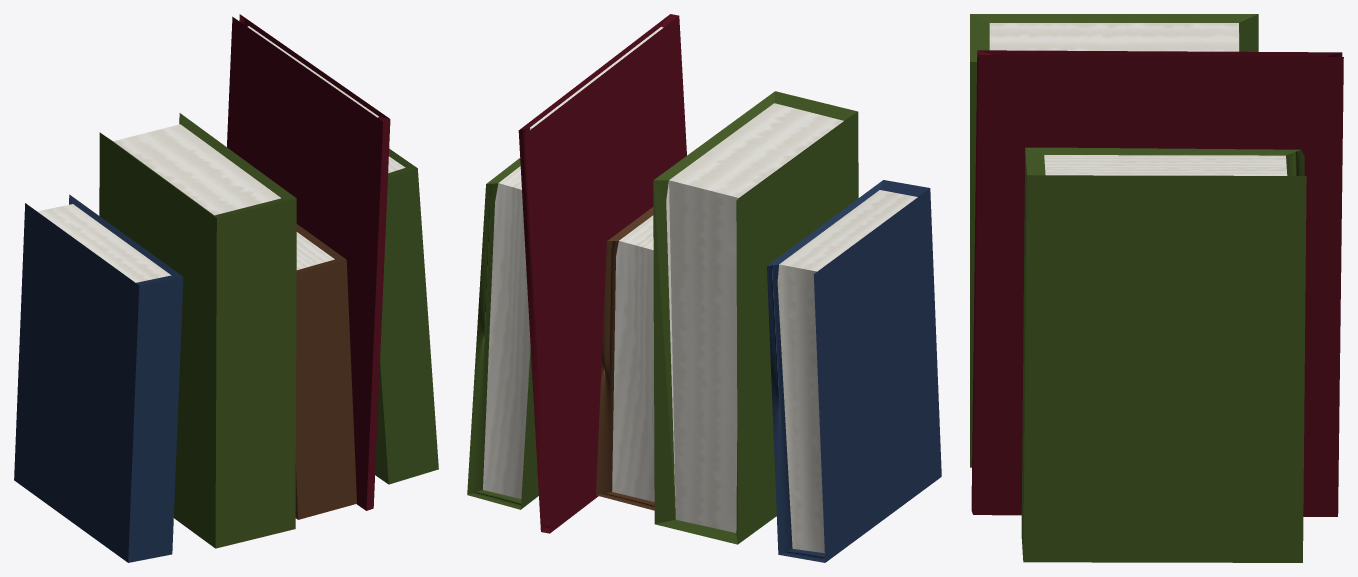
The model's file is books1.fbx.
The picture shows the model from 3 angles, left to right: view 1: azimuth 30°, elevation 25°; view 2: azimuth 150°, elevation 25°; view 3: azimuth 270°, elevation 25°; orthographic projection. The views are drawn at different scales.
Parts seen in each view (by area): view 1: pCube36, pCube33, pCube34, pCube35, pCube32; view 2: pCube36, pCube33, pCube34, pCube32, pCube35; view 3: pCube32, pCube34, pCube36.
Part boxes in pixels (bbox=[...]): pCube36: bbox=[99, 113, 296, 548]; pCube33: bbox=[14, 194, 183, 562]; pCube34: bbox=[227, 14, 390, 510]; pCube35: bbox=[295, 224, 356, 519]; pCube32: bbox=[375, 149, 438, 484]; pCube36: bbox=[653, 91, 858, 544]; pCube33: bbox=[767, 180, 941, 562]; pCube34: bbox=[518, 14, 686, 533]; pCube32: bbox=[467, 158, 538, 509]; pCube35: bbox=[596, 207, 654, 510]; pCube32: bbox=[1021, 147, 1306, 562]; pCube34: bbox=[971, 50, 1343, 516]; pCube36: bbox=[970, 14, 1258, 467].
Size of the model in its own units: 455 by 510 by 364.
